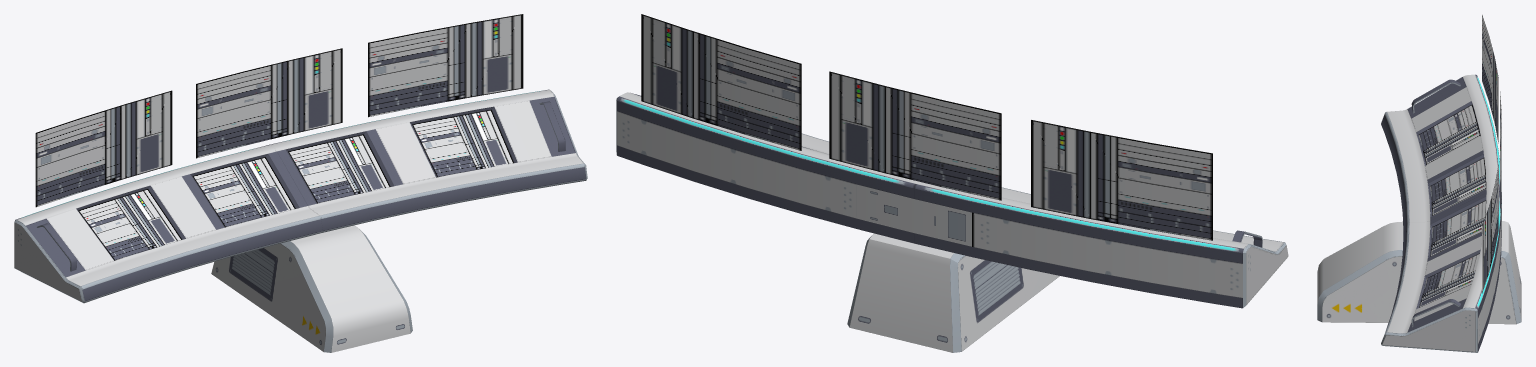
File: Cockpit_Tech_01.FBX
The picture shows the model from 3 angles, left to right: view 1: azimuth 30°, elevation 25°; view 2: azimuth 150°, elevation 25°; view 3: azimuth 270°, elevation 25°; orthographic projection. The views are drawn at different scales.
Parts seen in each view (by area): view 1: Cockpit_Tech_01, Base_01, HUD_Right, HUD_Center, HUD_Left, Screen_D, Screen_C, Screen_B, Screen_A; view 2: Cockpit_Tech_01, HUD_Left, Base_01, HUD_Center, HUD_Right; view 3: Cockpit_Tech_01, Base_01, Screen_A, Screen_B, Screen_C, Screen_D, HUD_Right, HUD_Left, HUD_Center.
Part boxes in pixels (x1,y1,x2,y2): Cockpit_Tech_01: [14, 89, 587, 303]; Base_01: [211, 225, 412, 352]; HUD_Right: [368, 14, 523, 117]; HUD_Center: [196, 48, 342, 158]; HUD_Left: [35, 90, 172, 207]; Screen_D: [412, 109, 513, 177]; Screen_C: [288, 134, 390, 203]; Screen_B: [192, 157, 295, 227]; Screen_A: [78, 189, 181, 260]; Cockpit_Tech_01: [616, 92, 1288, 308]; HUD_Left: [1031, 120, 1212, 240]; Base_01: [847, 233, 1059, 352]; HUD_Center: [829, 71, 1001, 200]; HUD_Right: [641, 14, 801, 150]; Cockpit_Tech_01: [1381, 74, 1501, 352]; Base_01: [1317, 221, 1521, 324]; Screen_A: [1418, 105, 1480, 164]; Screen_B: [1430, 158, 1486, 215]; Screen_C: [1430, 200, 1486, 256]; Screen_D: [1419, 253, 1479, 307]; HUD_Right: [1482, 165, 1498, 293]; HUD_Left: [1482, 15, 1498, 143]; HUD_Center: [1500, 91, 1501, 217].
Bounding box in the file's own units: 5.66 × 2.04 × 2.08.
